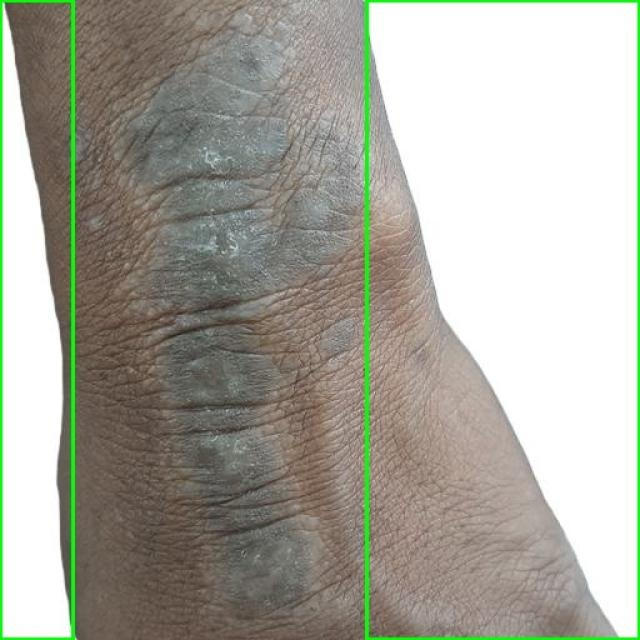Eczema: (366, 0, 639, 639), (0, 0, 72, 639)
